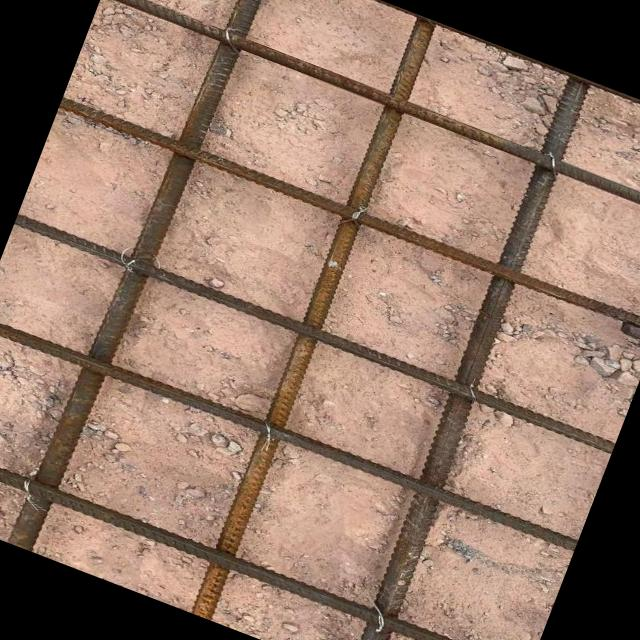ribbed bar: (187, 14, 441, 620), (6, 0, 280, 558), (339, 72, 605, 640), (15, 213, 615, 454), (59, 95, 640, 339), (0, 310, 577, 555), (102, 0, 640, 227), (0, 439, 528, 640)
